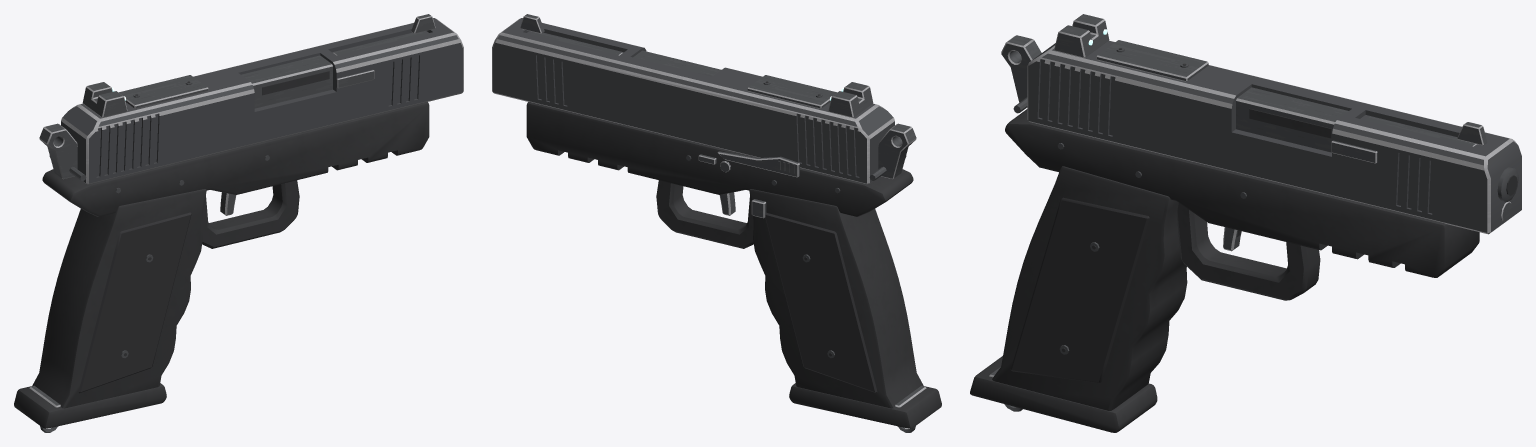
The model's file is w_pistol.glb.
3 renders of one model, left to right at view 1: azimuth 30°, elevation 25°; view 2: azimuth 150°, elevation 25°; view 3: azimuth 330°, elevation 25°, orthographic. The views are drawn at different scales.
Visible parts, largest first — view 1: W_pistol; view 2: W_pistol; view 3: W_pistol.
Boxes of the visible parts, bbox=[...] form: W_pistol: bbox=[14, 14, 463, 432]; W_pistol: bbox=[492, 14, 941, 432]; W_pistol: bbox=[970, 14, 1521, 432].
Bounding box in the file's own units: 0.2296 × 0.1687 × 0.033.
6 materials, 3 textured.
